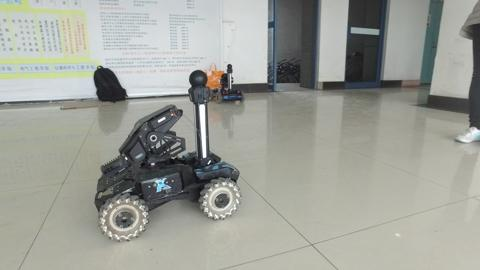bag: (84, 63, 135, 104)
chariot: (85, 67, 246, 244), (207, 58, 248, 110)
